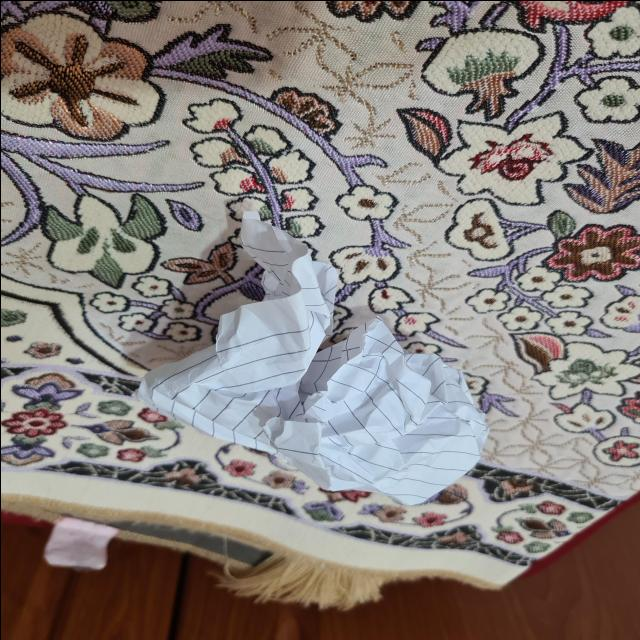kertas: (142, 270, 502, 508)
